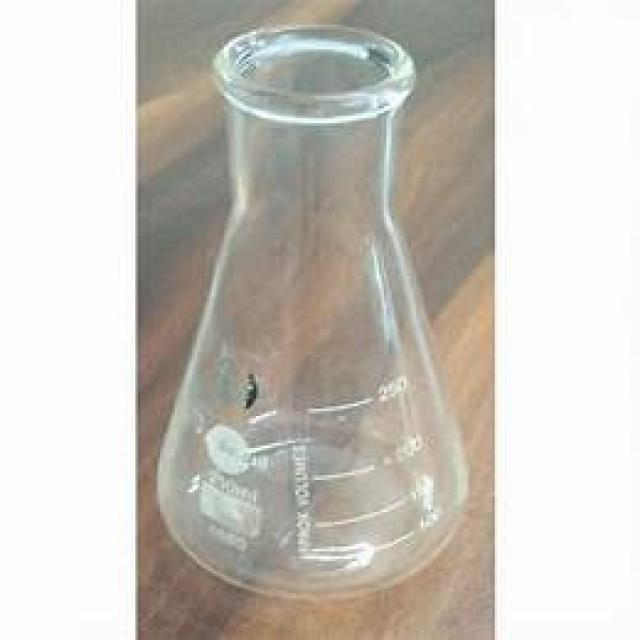Titrarion: (151, 13, 467, 598)
